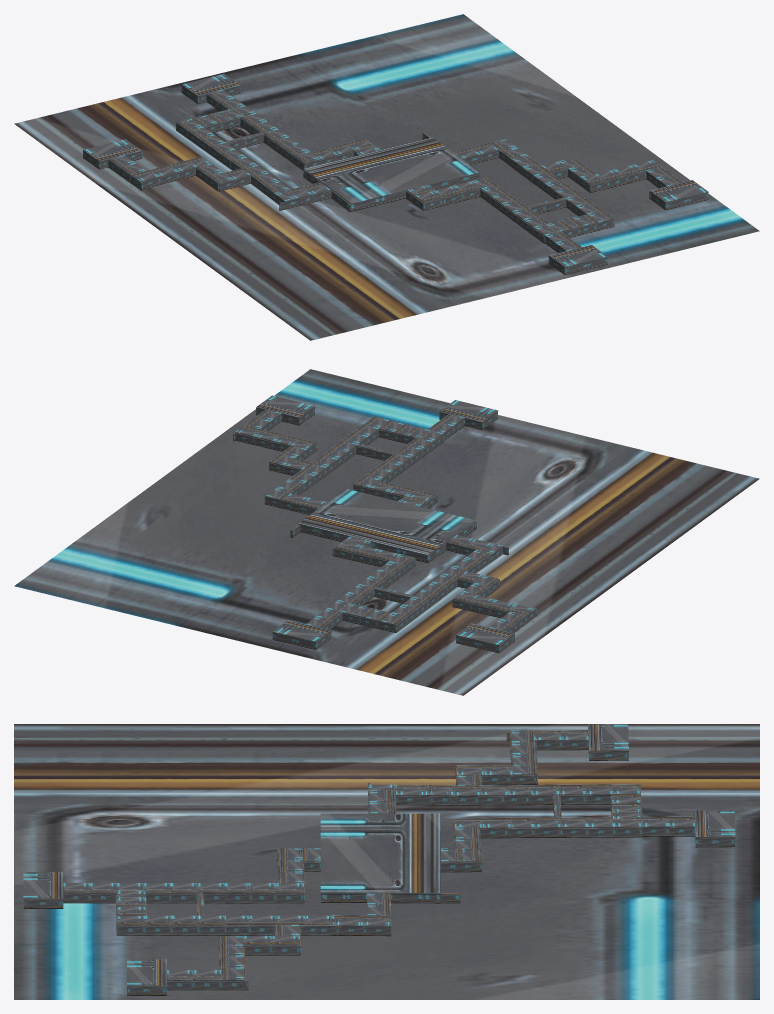
The model's file is maze.glb.
3 renders of one model, top to bottom at view 1: azimuth 30°, elevation 25°; view 2: azimuth 150°, elevation 25°; view 3: azimuth 270°, elevation 25°, orthographic. The views are drawn at different scales.
Visible parts, largest first — view 1: geometry; view 2: geometry; view 3: geometry.
Part boxes in pixels (x1=…): geometry: x1=14, y1=14, x2=759, y2=340; geometry: x1=14, y1=369, x2=759, y2=695; geometry: x1=14, y1=724, x2=759, y2=999.
Bounding box in the file's own units: 479 × 8.34 × 548.
Materials: 1 (1 with a texture image).
